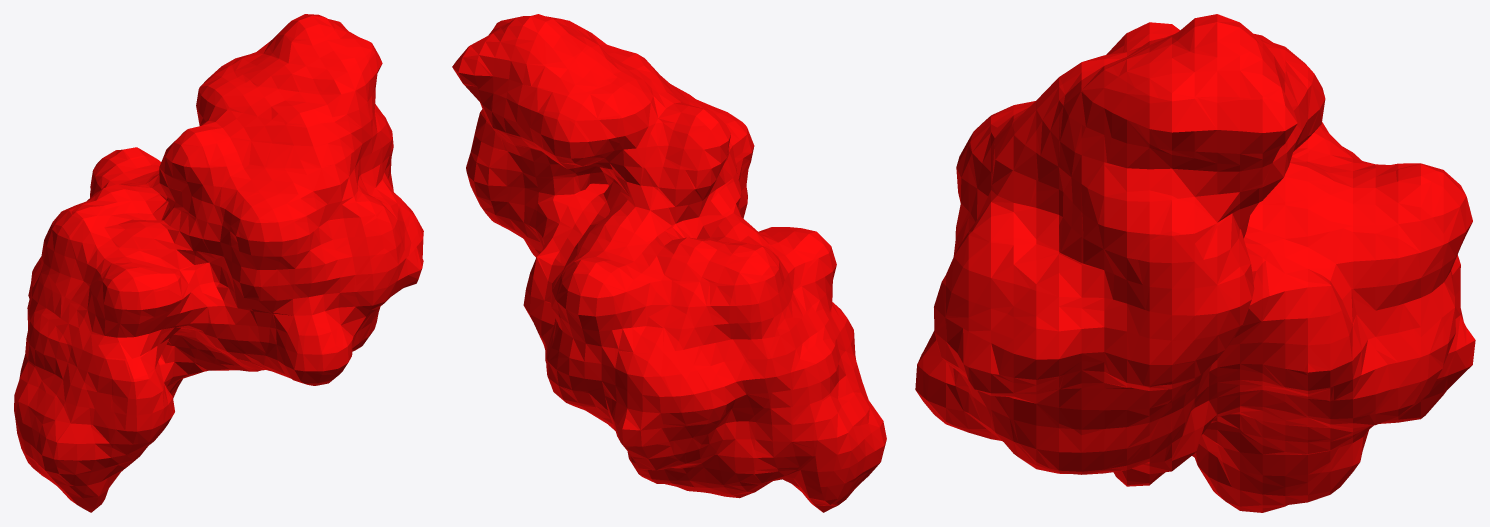
Rendered from rffG_coarse.dae.
3 views of the same model, side by side, from view 1: azimuth 30°, elevation 25°; view 2: azimuth 150°, elevation 25°; view 3: azimuth 270°, elevation 25° (orthographic). The views are drawn at different scales.
Visible parts, largest first — view 1: rffG; view 2: rffG; view 3: rffG.
Boxes of the visible parts, left/top/right/bottom form: rffG: left=14, top=14, right=423, bottom=512; rffG: left=452, top=14, right=886, bottom=512; rffG: left=915, top=14, right=1475, bottom=512.
Size of the model in its own units: 82.42 by 90.55 by 69.94.
